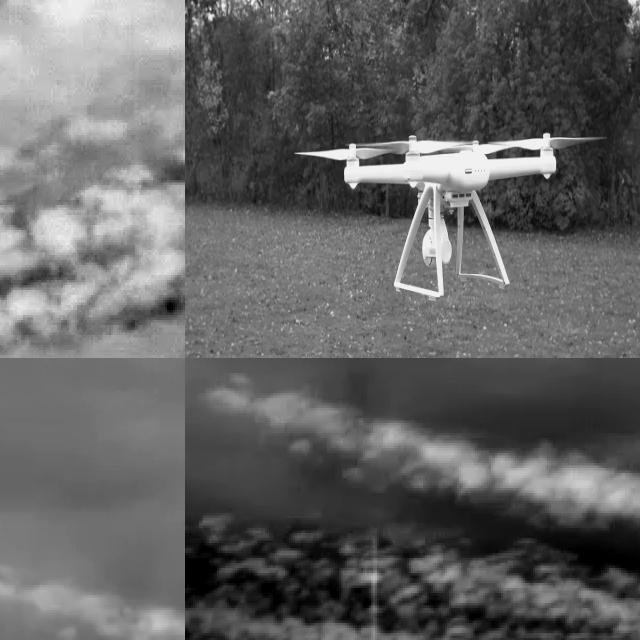drone: (298, 123, 597, 298)
